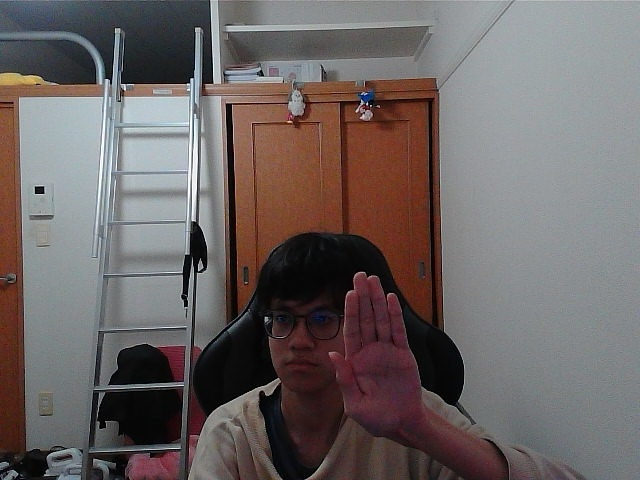open_palm: (340, 304, 405, 416)
